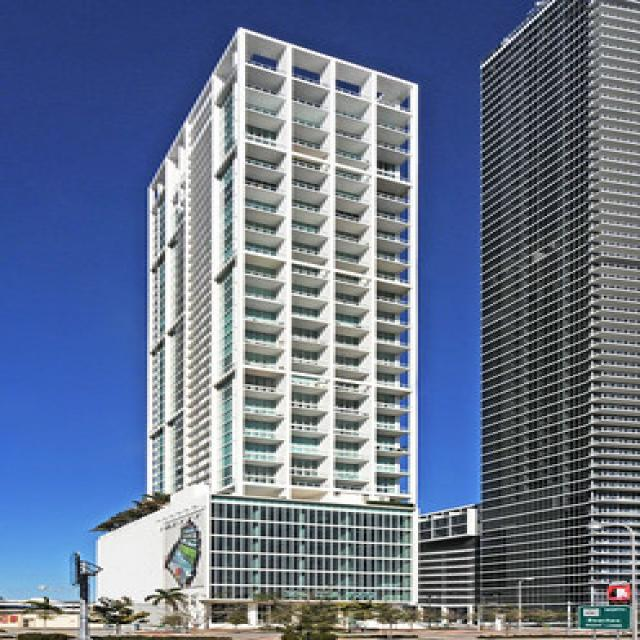Normal_building: (130, 22, 430, 612)
